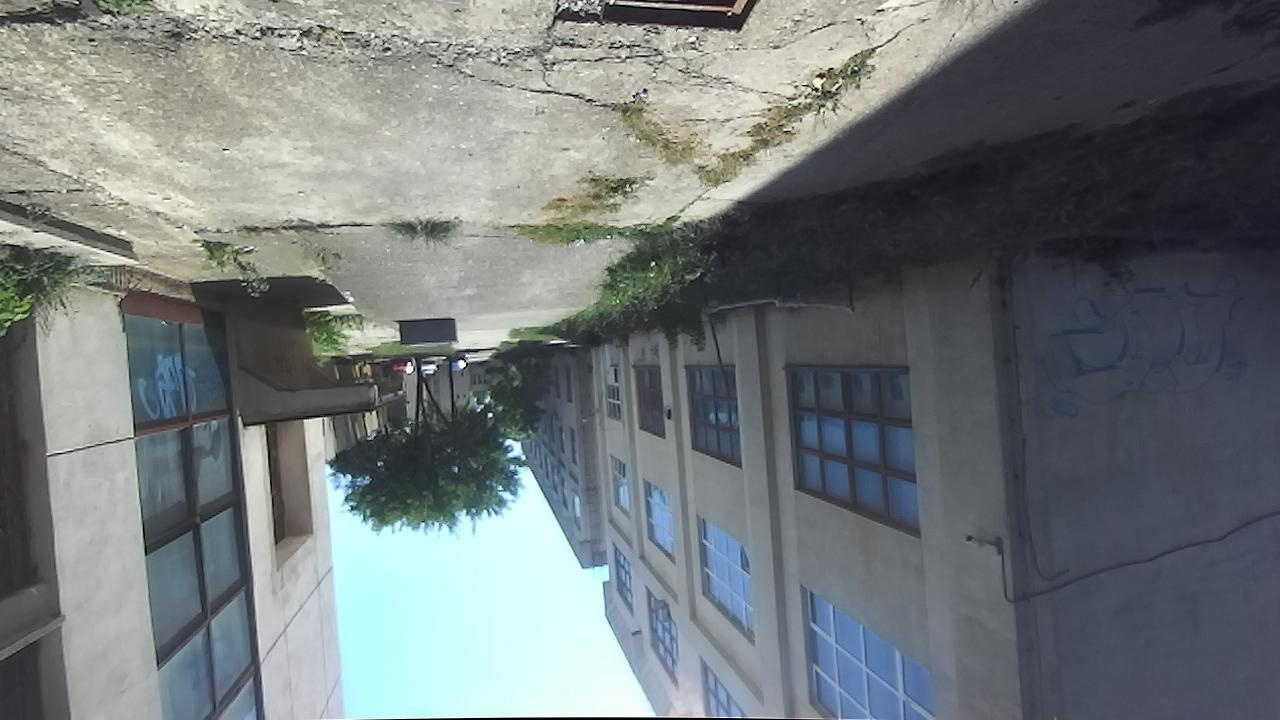drain: (591, 0, 768, 36)
